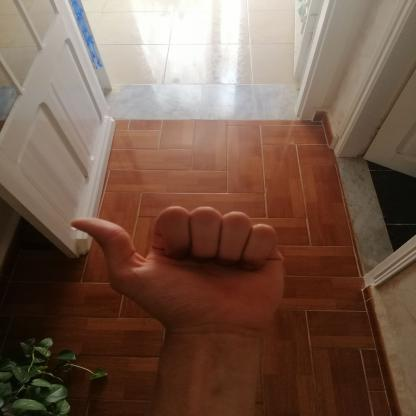DAD: (55, 196, 299, 348)
